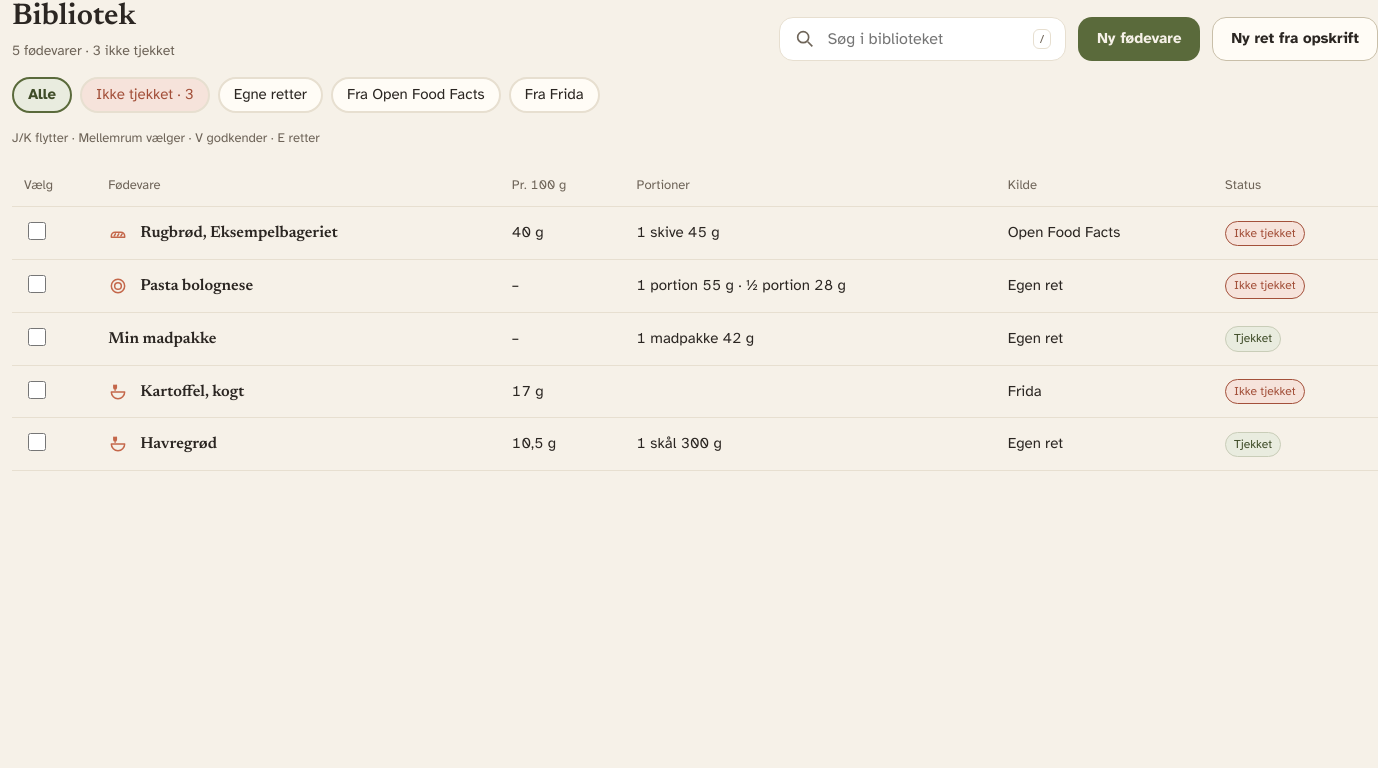
Bibliotek on desktop (Bibliotek-Desktop) › Ny fødevare opens an empty panel and adds the saved food to the table
Check: the number of rows is 6, box [12, 164, 1377, 207]; [12, 207, 1377, 260]; [12, 260, 1377, 312]; [12, 312, 1377, 365]; [12, 365, 1377, 418]; [12, 418, 1377, 471]
Click the button "Ny fødevare": (1139, 39) [1078, 17, 1200, 61]
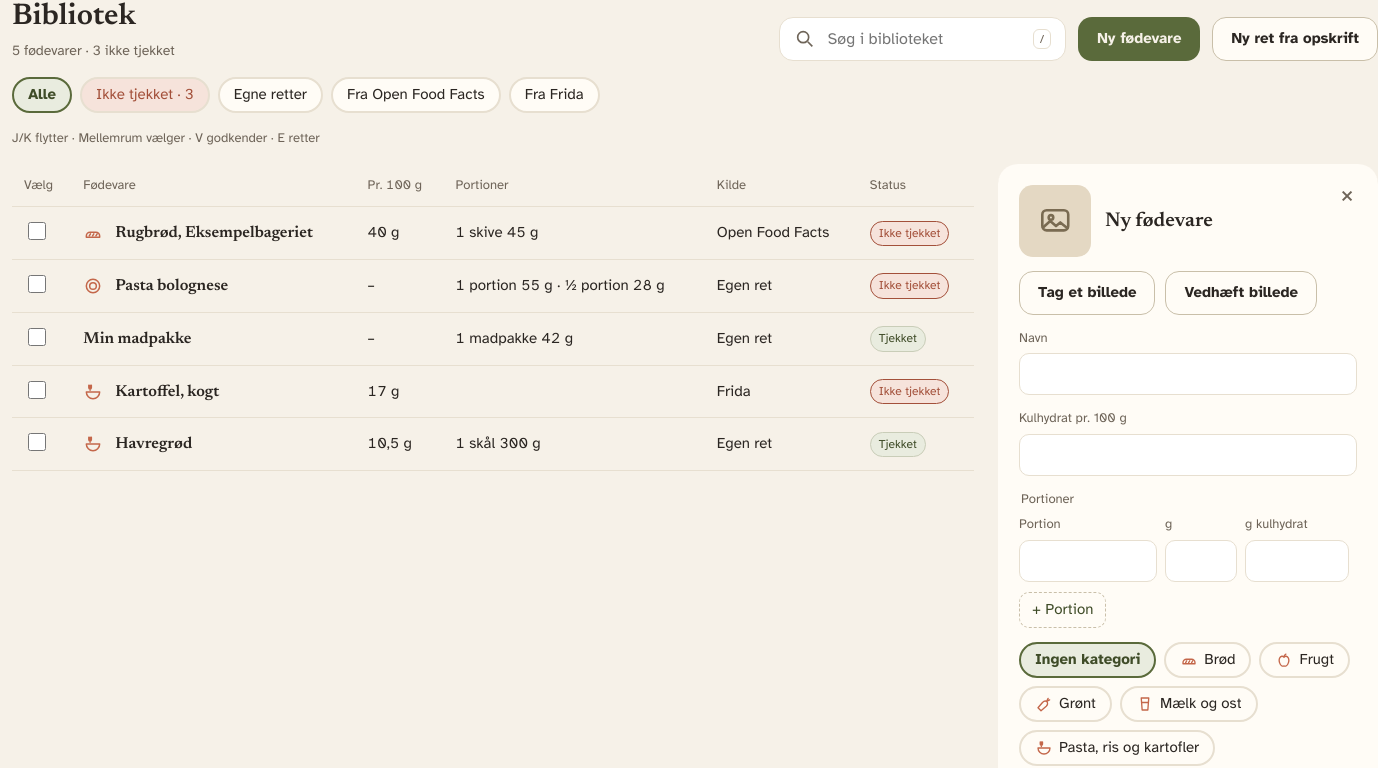
In the field labelled "Navn": (1188, 374) [1019, 354, 1357, 396], type "Boller"
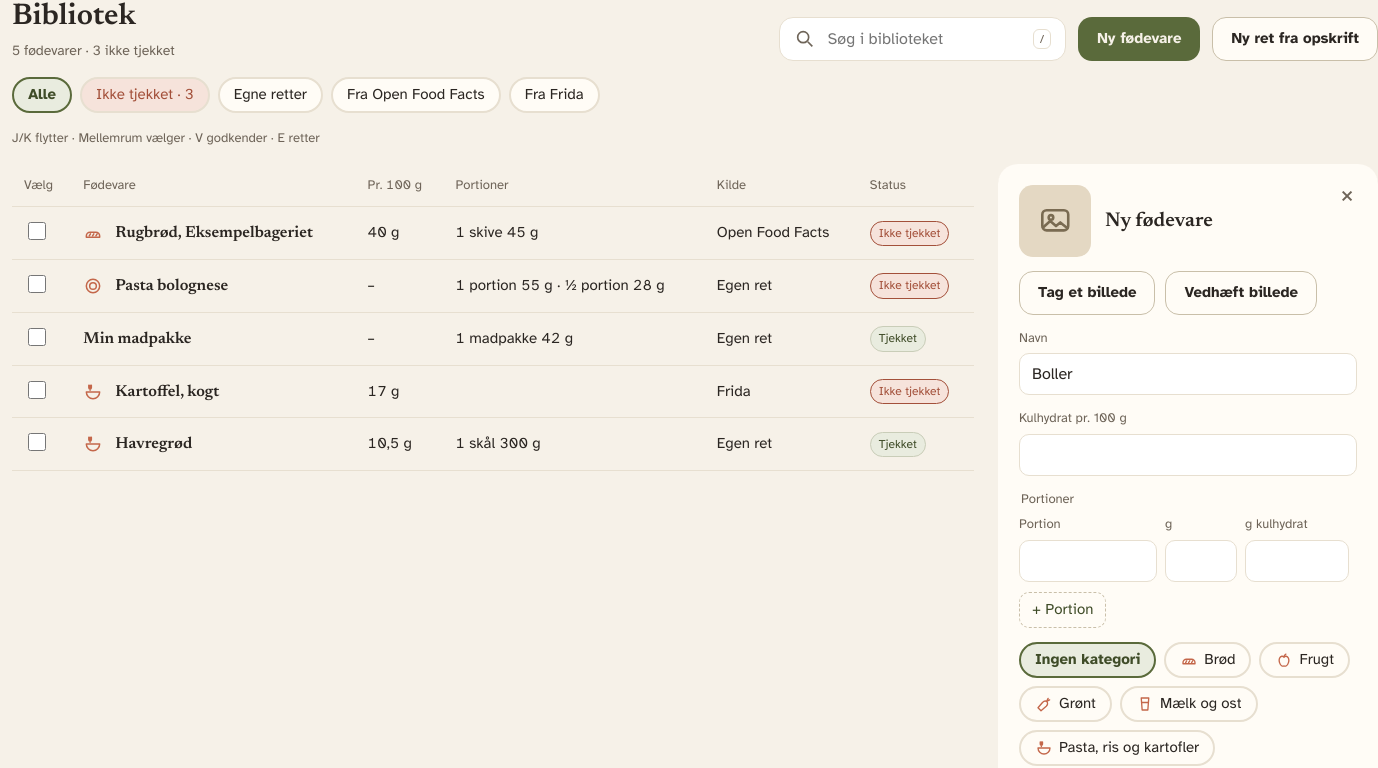
In the field labelled "Kulhydrat pr. 100 g": (1188, 455) [1019, 434, 1357, 476], type "48"
(page scrolled)
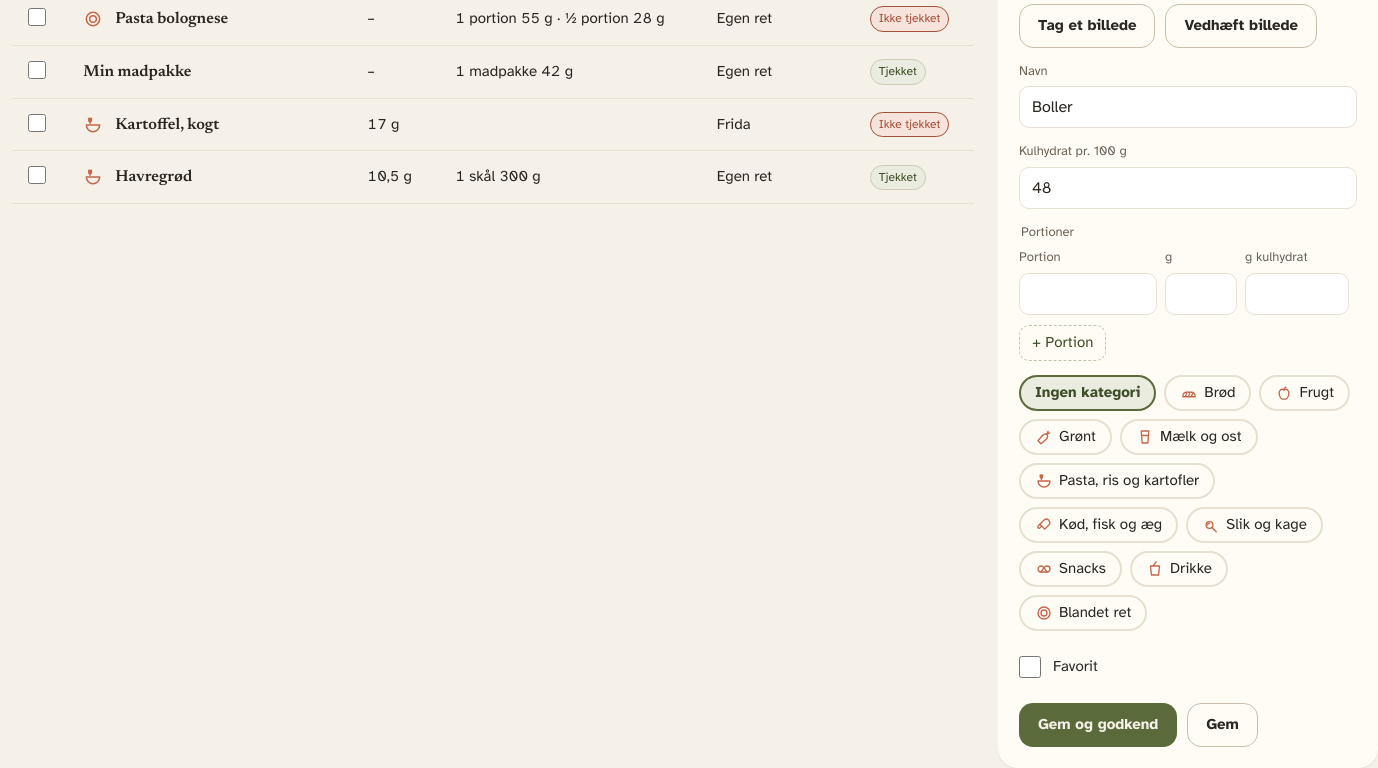
Click the button "Gem": (1222, 725) [1187, 703, 1258, 747]
(page scrolled)
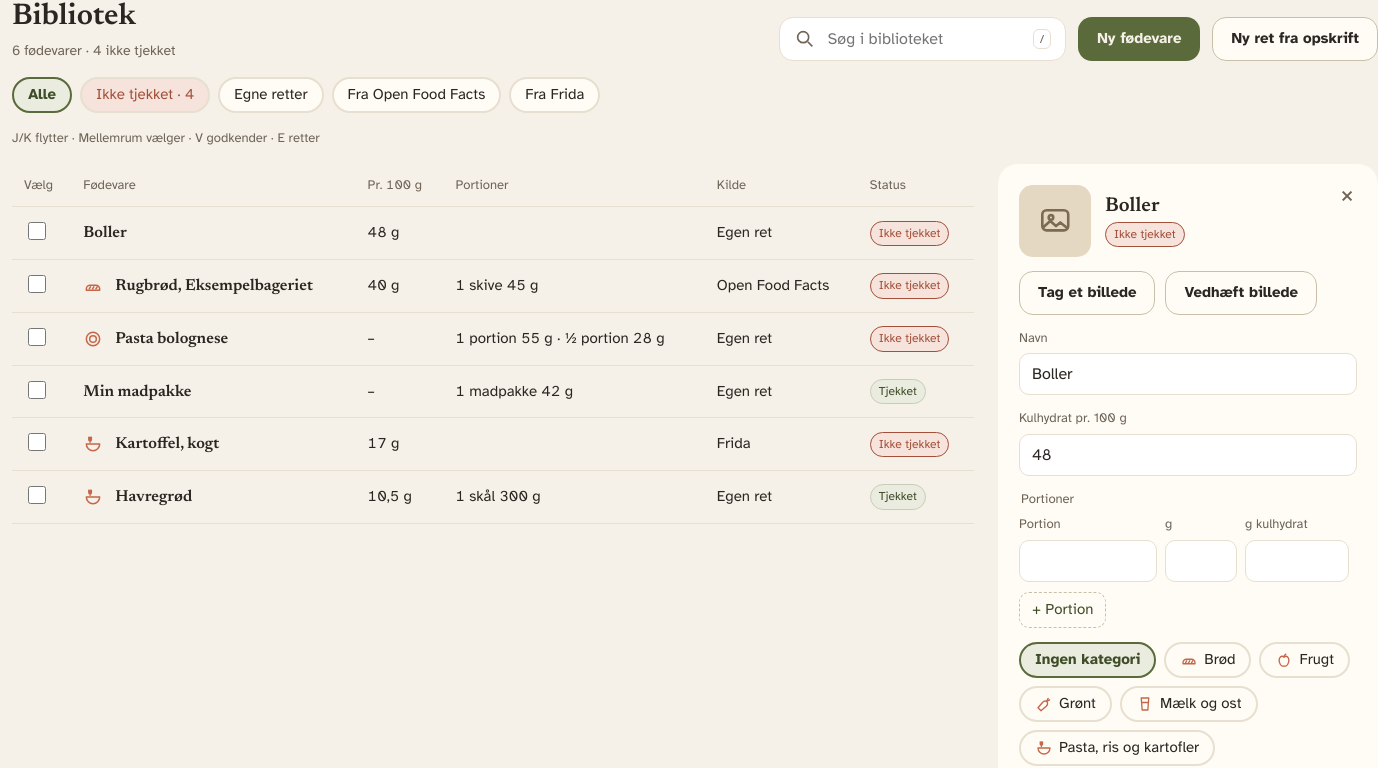
Check: the number of rows is 7
Check: the text "6 fødevarer · 4 ikke tjekket" is shown, box [12, 40, 176, 61]
